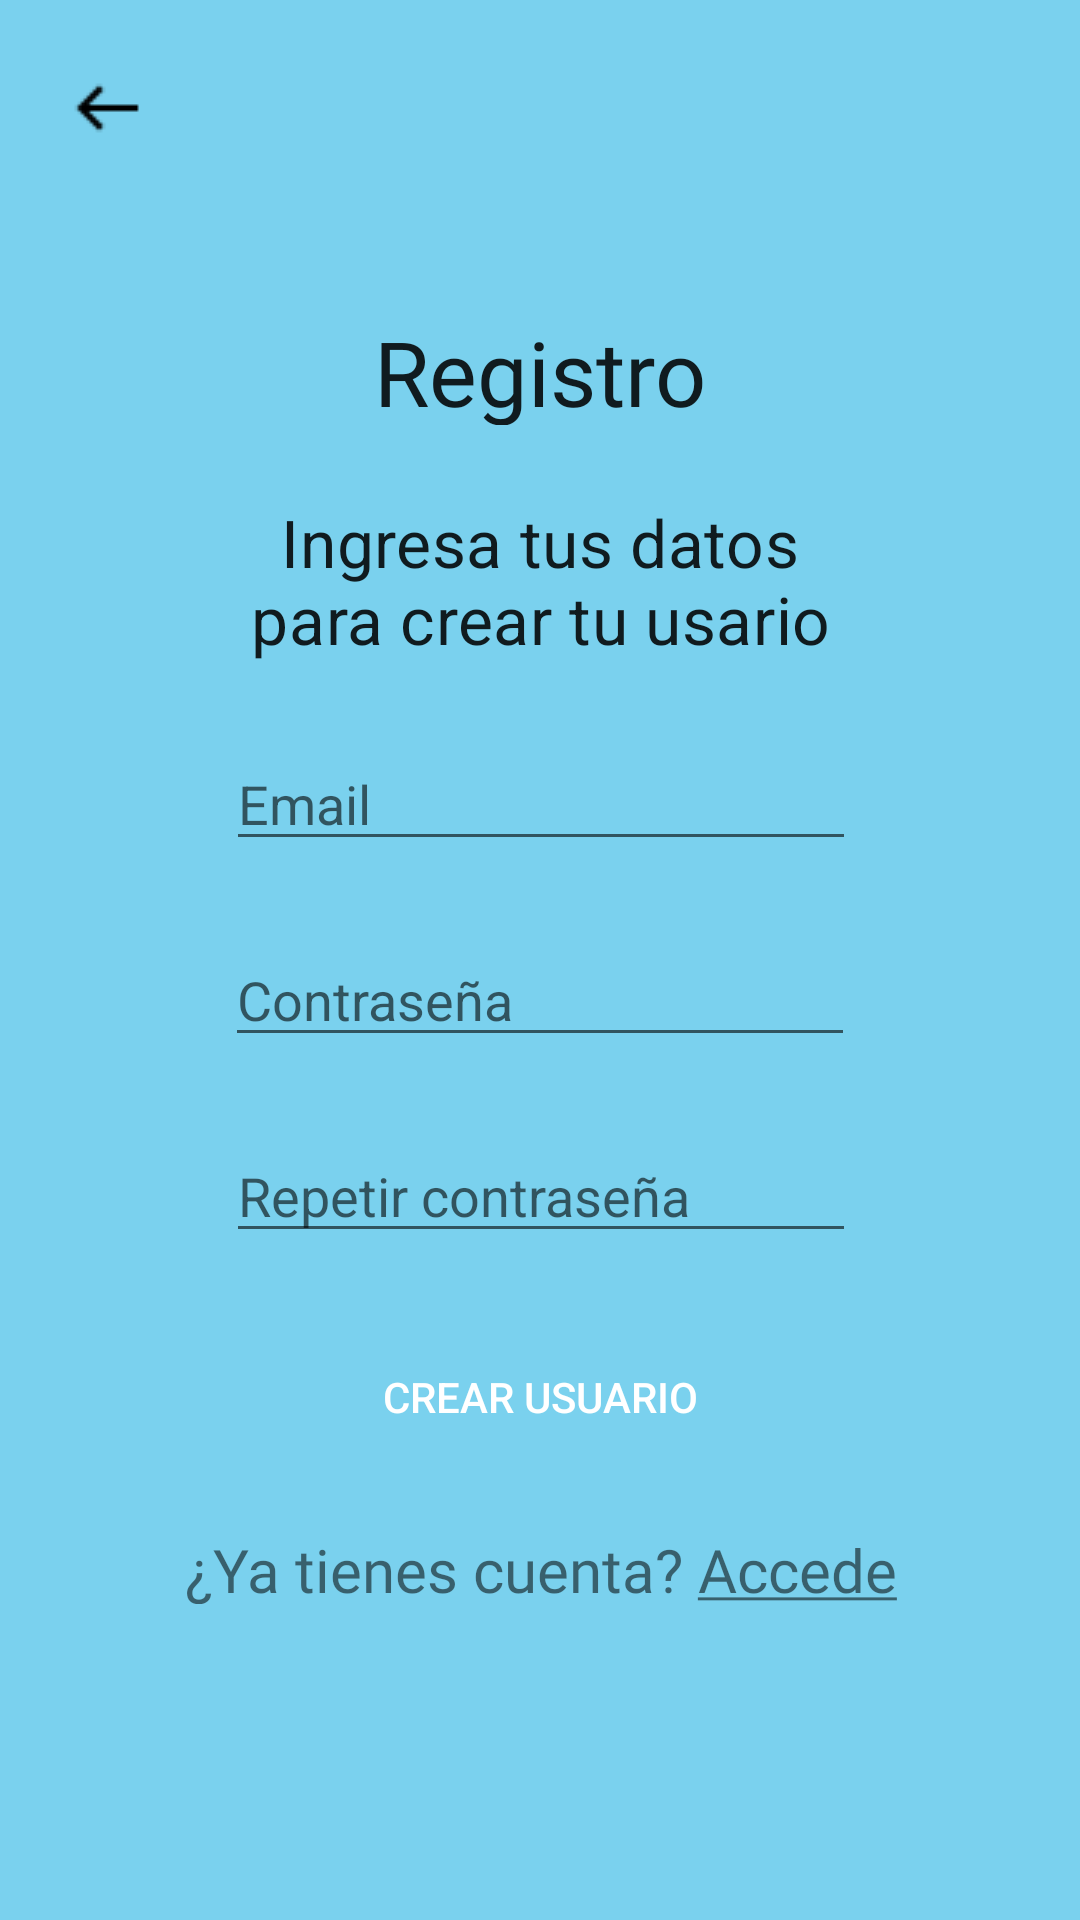

Named icons in this screenshot (1080*1920) and their bounding boxes, (left=x1, top=y1, right=x2, bottom=y2):
flecha: (left=76, top=85, right=139, bottom=131)
